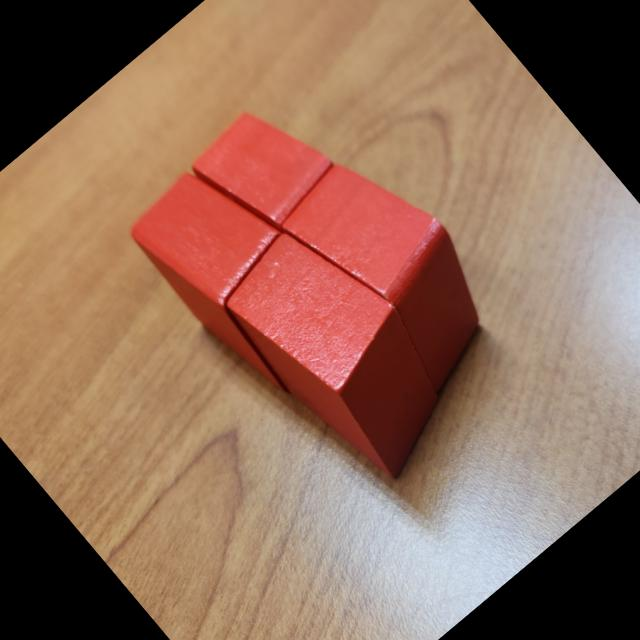red: (207, 207, 479, 495), (269, 133, 524, 403), (119, 144, 370, 408), (184, 88, 345, 250)
